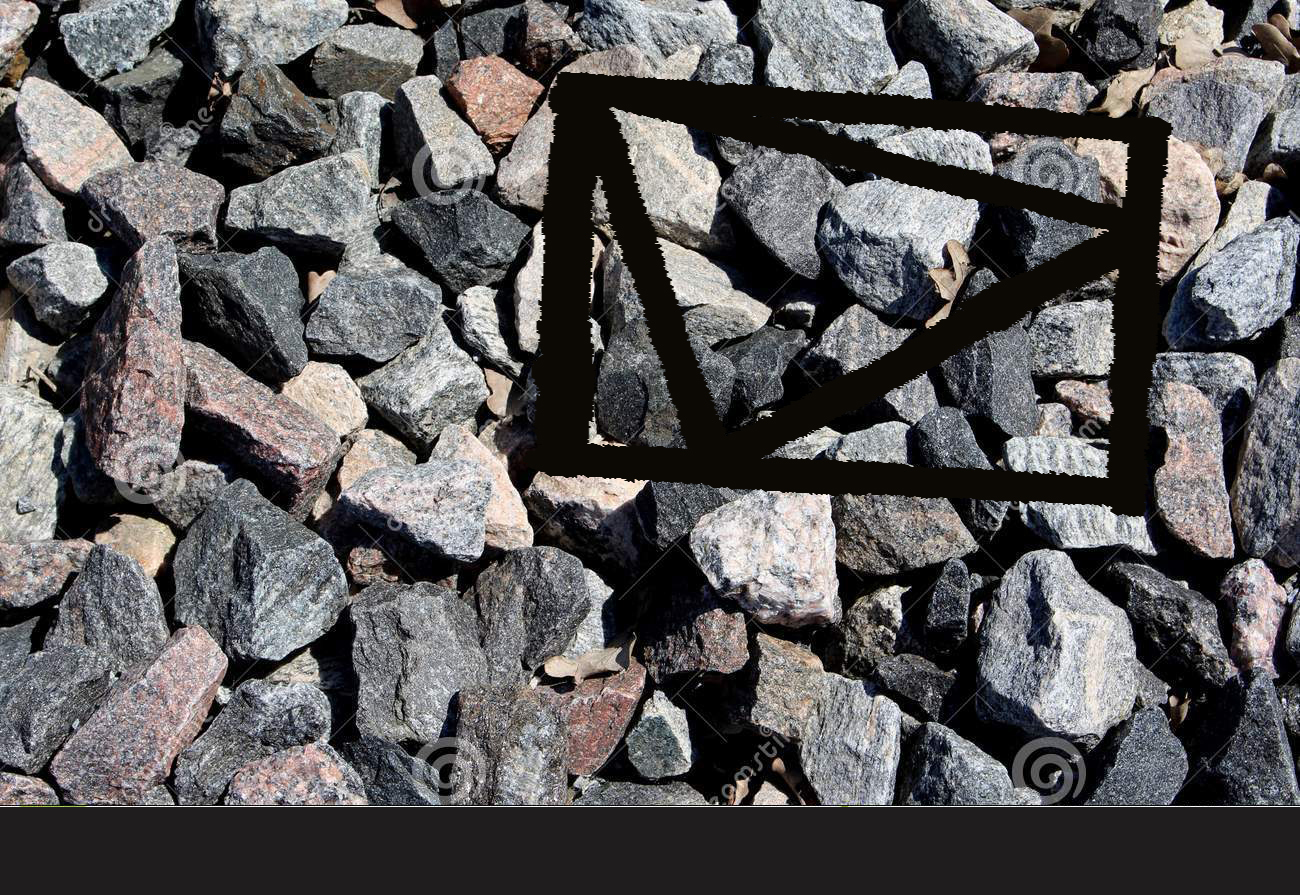marker: (514, 61, 1182, 526)
